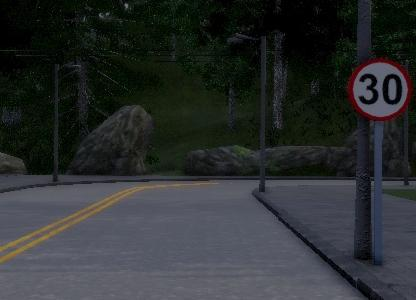Speed_30: (343, 53, 414, 121)
